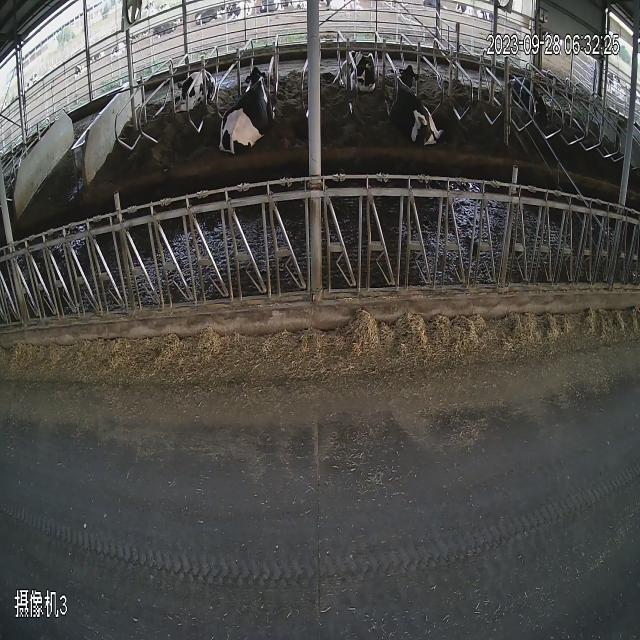lying down: (218, 39, 272, 184), (390, 49, 452, 167), (180, 44, 222, 132), (338, 28, 382, 92)
